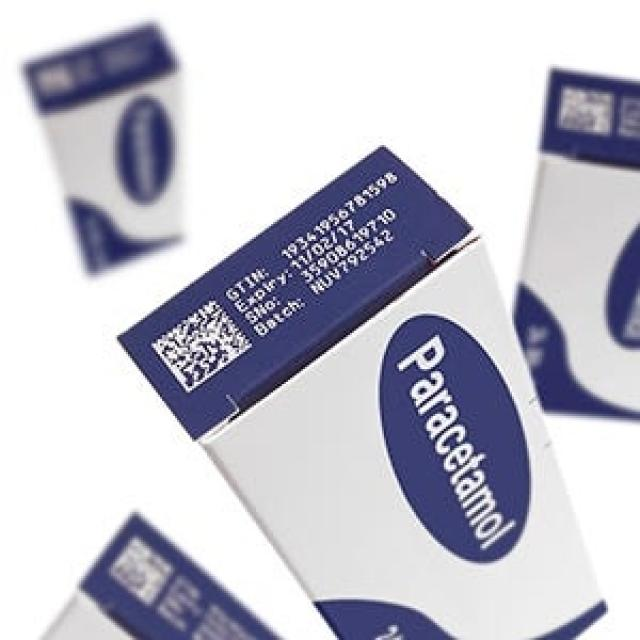datamatrix: (141, 290, 256, 395)
